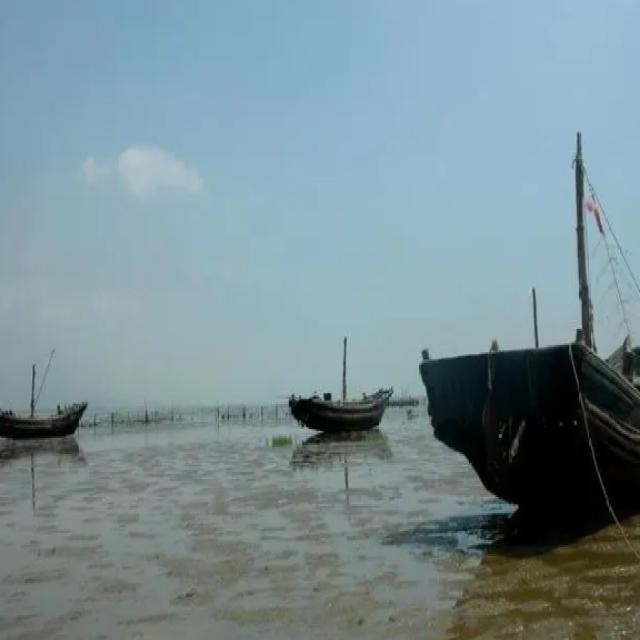fishing boat: (427, 128, 640, 520), (294, 322, 393, 433), (0, 342, 88, 445)
